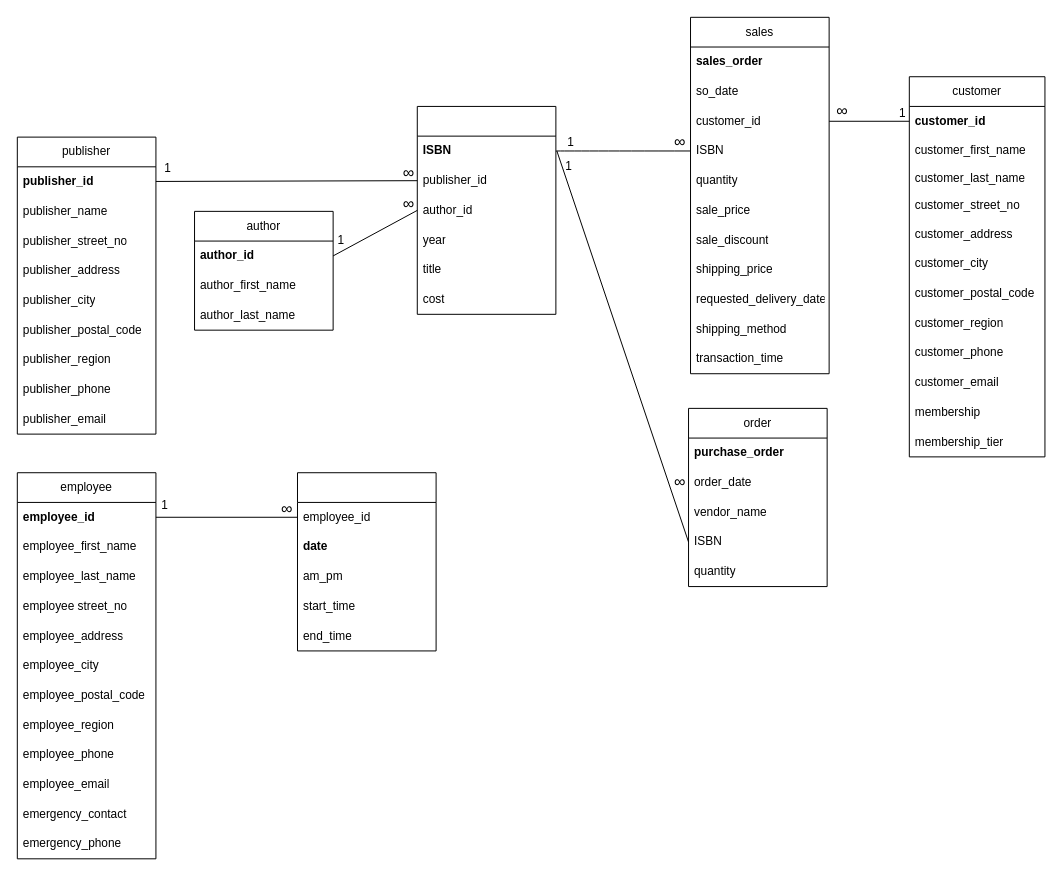
Image size: 1062x876. Some labels were removed from this diagram. The box of each missing label's shape, as (x1, y1, x2, y2) in pixels:
book: (416, 105, 556, 314)
employee_shifts: (297, 472, 436, 651)
